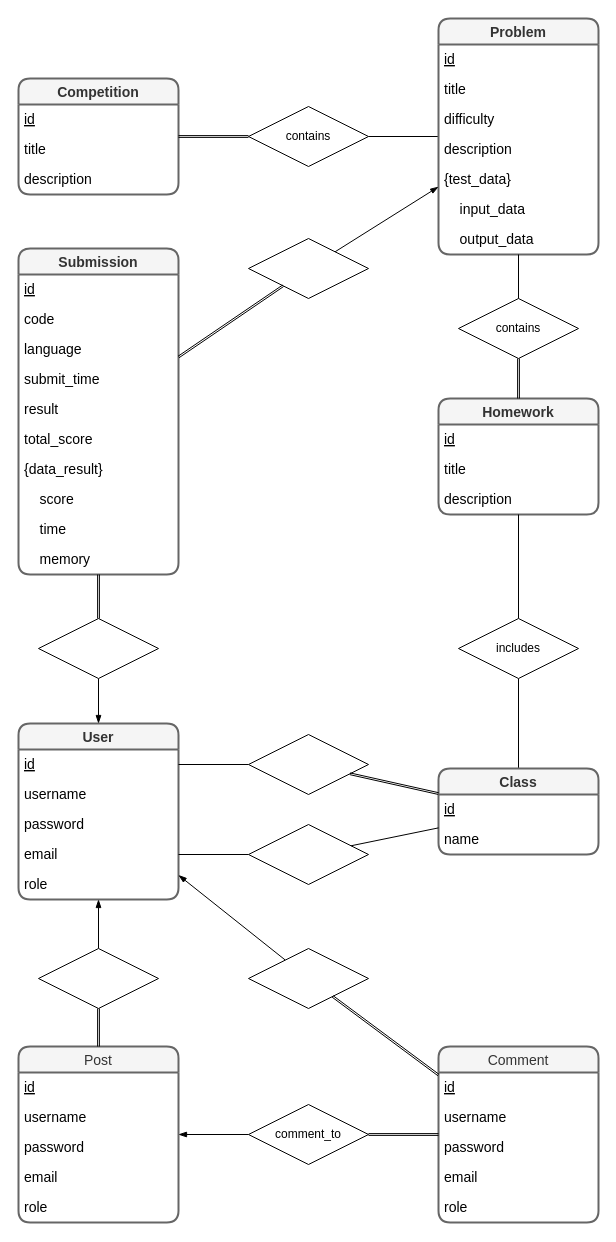
Some shapes in this 616 by 1242 pixel diagram are drawn without their labels. Here are the shapes that lost their labels. From the top down, the centre of each, then its label:
point (308, 268): submits_to
point (98, 648): submitter
point (308, 764): teacher
point (308, 854): student
point (98, 978): posts
point (308, 978): posts_comment
